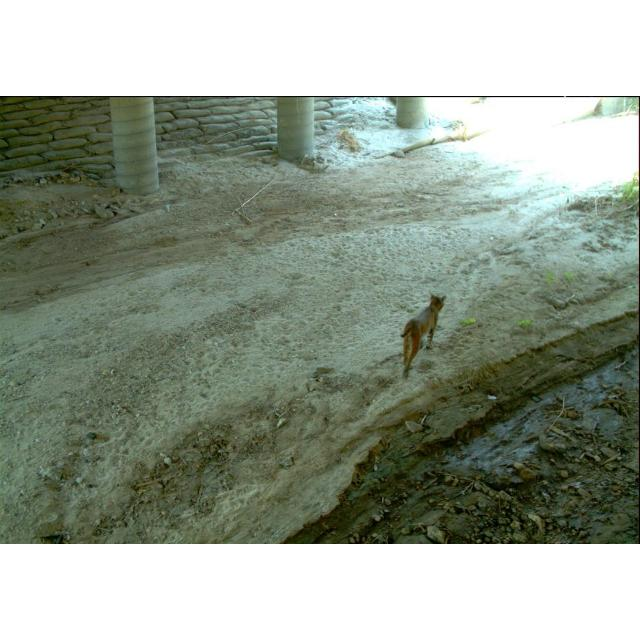animals: (400, 289, 450, 377)
